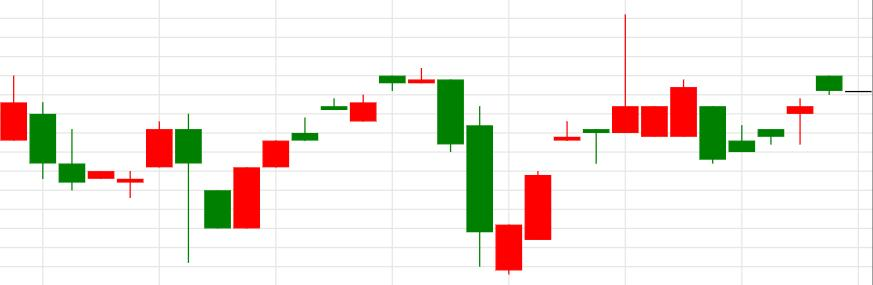bullish_engulfing_rise: (147, 112, 261, 262)
shooting_star_fall: (496, 14, 639, 275)
